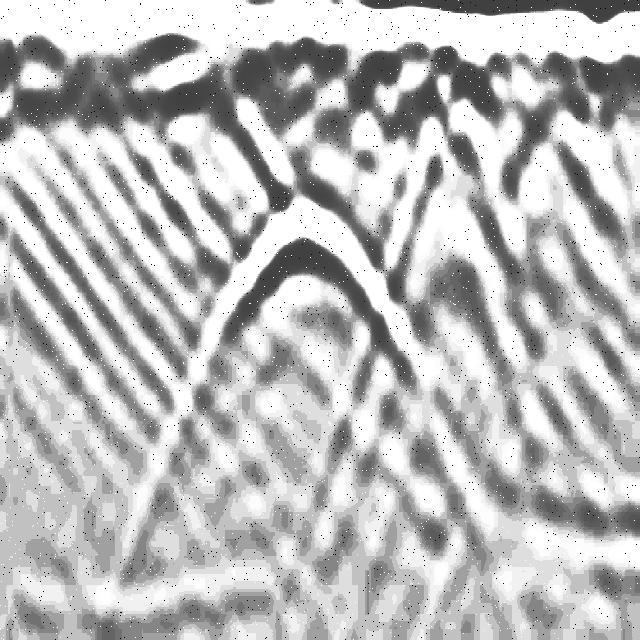hyperbola: (162, 195, 410, 402), (393, 74, 510, 373)
